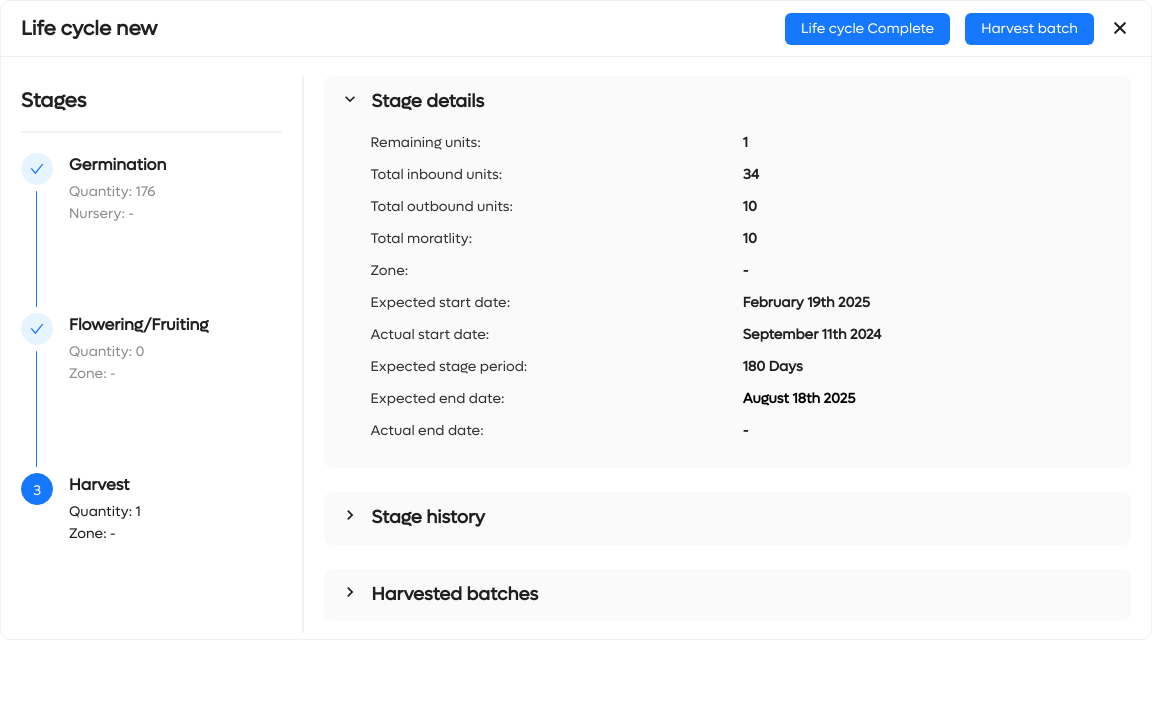
Test: Add Update lifecycle page › should render error state at the time of request harvest crop process
Click the button "Harvest batch".
click(1030, 28)  # box [965,12,1094,44]
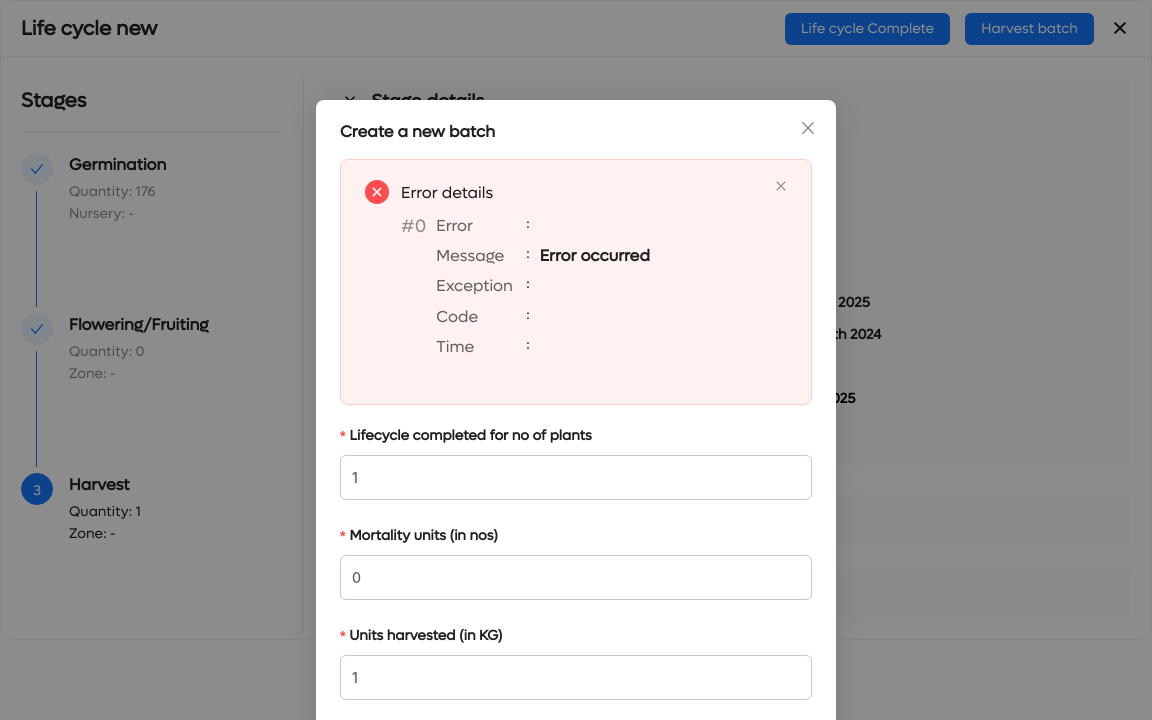
Expected: the text "Error occurred" is shown, [540,243,650,273]
